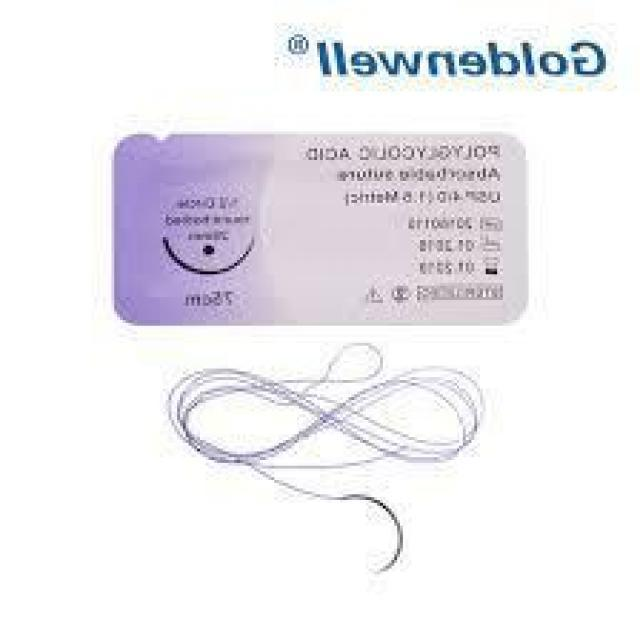Needle: (337, 488, 409, 583)
